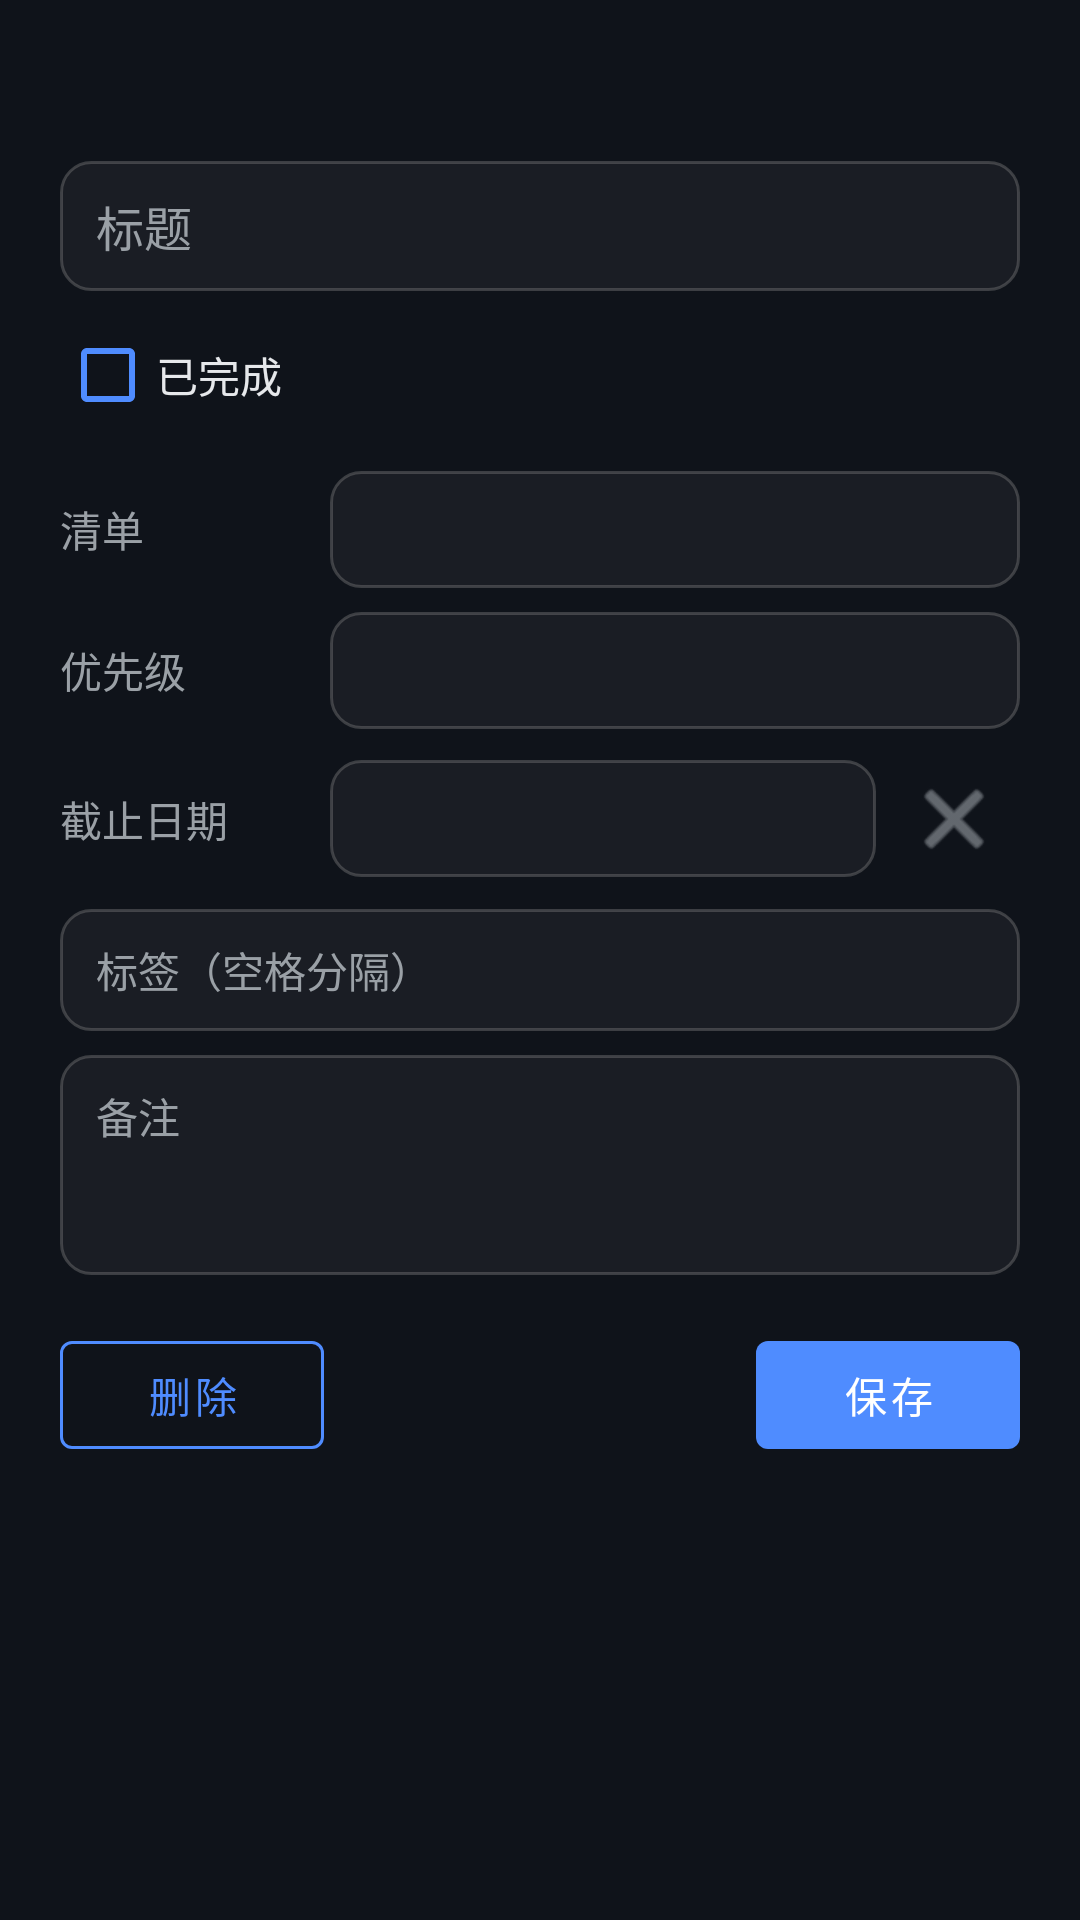

Where to tap for icons on this 1080 x 1920 app screen, as [x,y]:
清除截止日期: [954,819]
